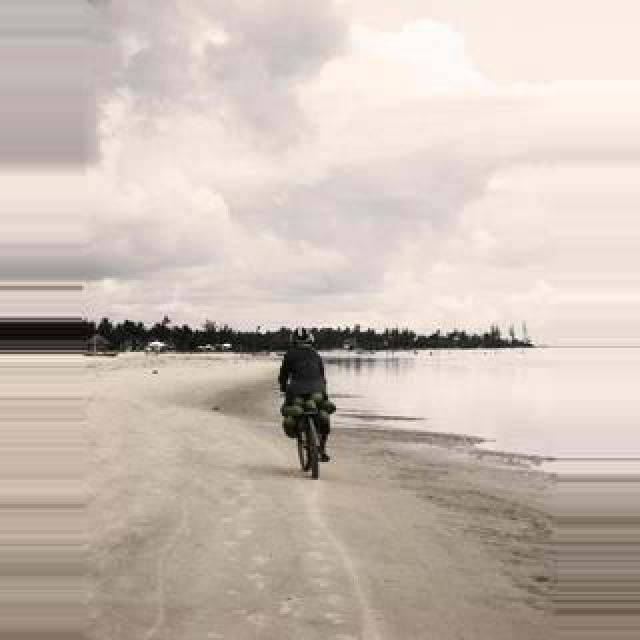MC-Bike: (276, 334, 336, 462)
Person: (282, 392, 332, 480)
